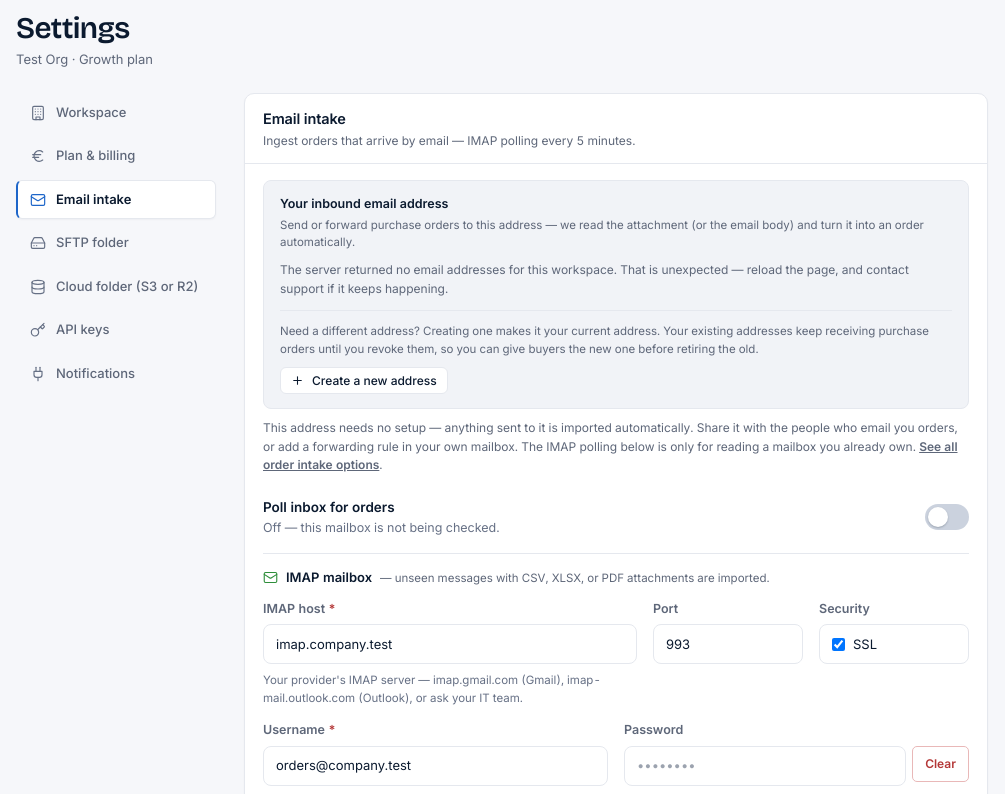
Test case: Settings — the polling line reports an observed poll, not a saved switch › an unsaved switch describes nobody's behaviour yet
Expected: the text "Off — this mailbox is not being checked." is shown, [263,519,500,537]
Click the switch named "Poll inbox for orders". click: {"x": 947, "y": 517}
box: [925,504,969,530]
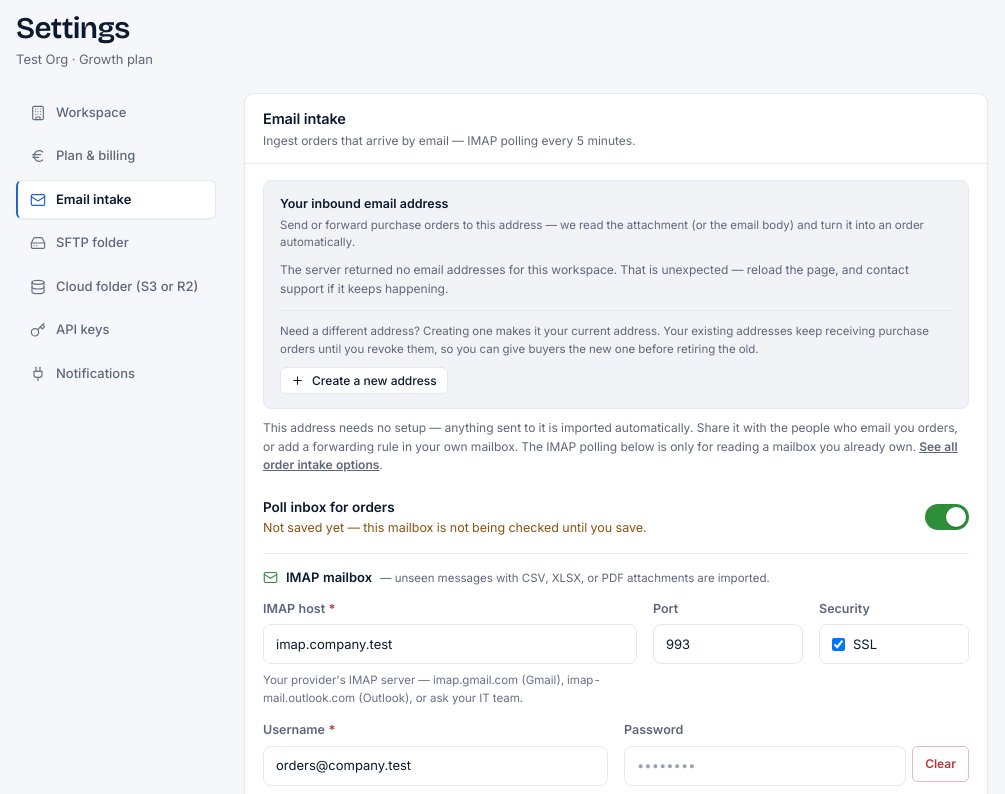
Expected: the text "Not saved yet — this mailbox is not being checked until you save." is shown, [263,519,646,537]
